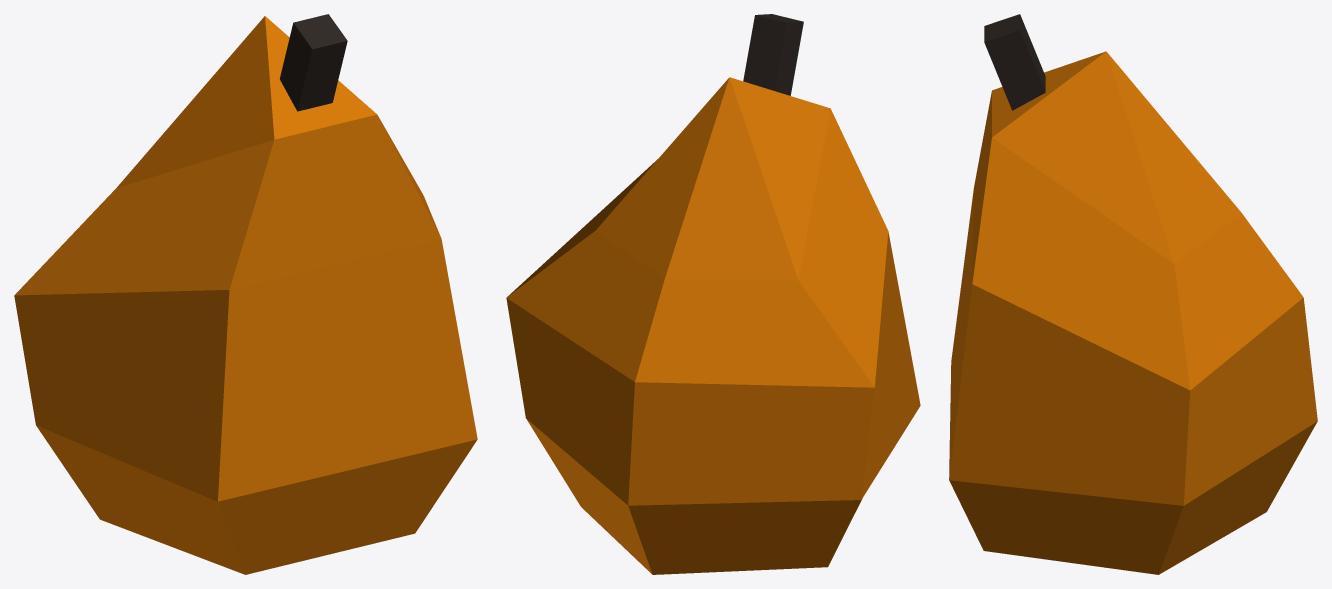
The model's file is mango.fbx.
The picture shows the model from 3 angles, left to right: view 1: azimuth 30°, elevation 25°; view 2: azimuth 150°, elevation 25°; view 3: azimuth 270°, elevation 25°; orthographic projection. The views are drawn at different scales.
Visible parts, largest first — view 1: Sphere.003; view 2: Sphere.003; view 3: Sphere.003.
Boxes of the visible parts, x1,y1,x2,y2 form: Sphere.003: (14,14,477,574); Sphere.003: (506,14,920,574); Sphere.003: (949,14,1317,574).
Size of the model in its own units: 344 by 418 by 285.
